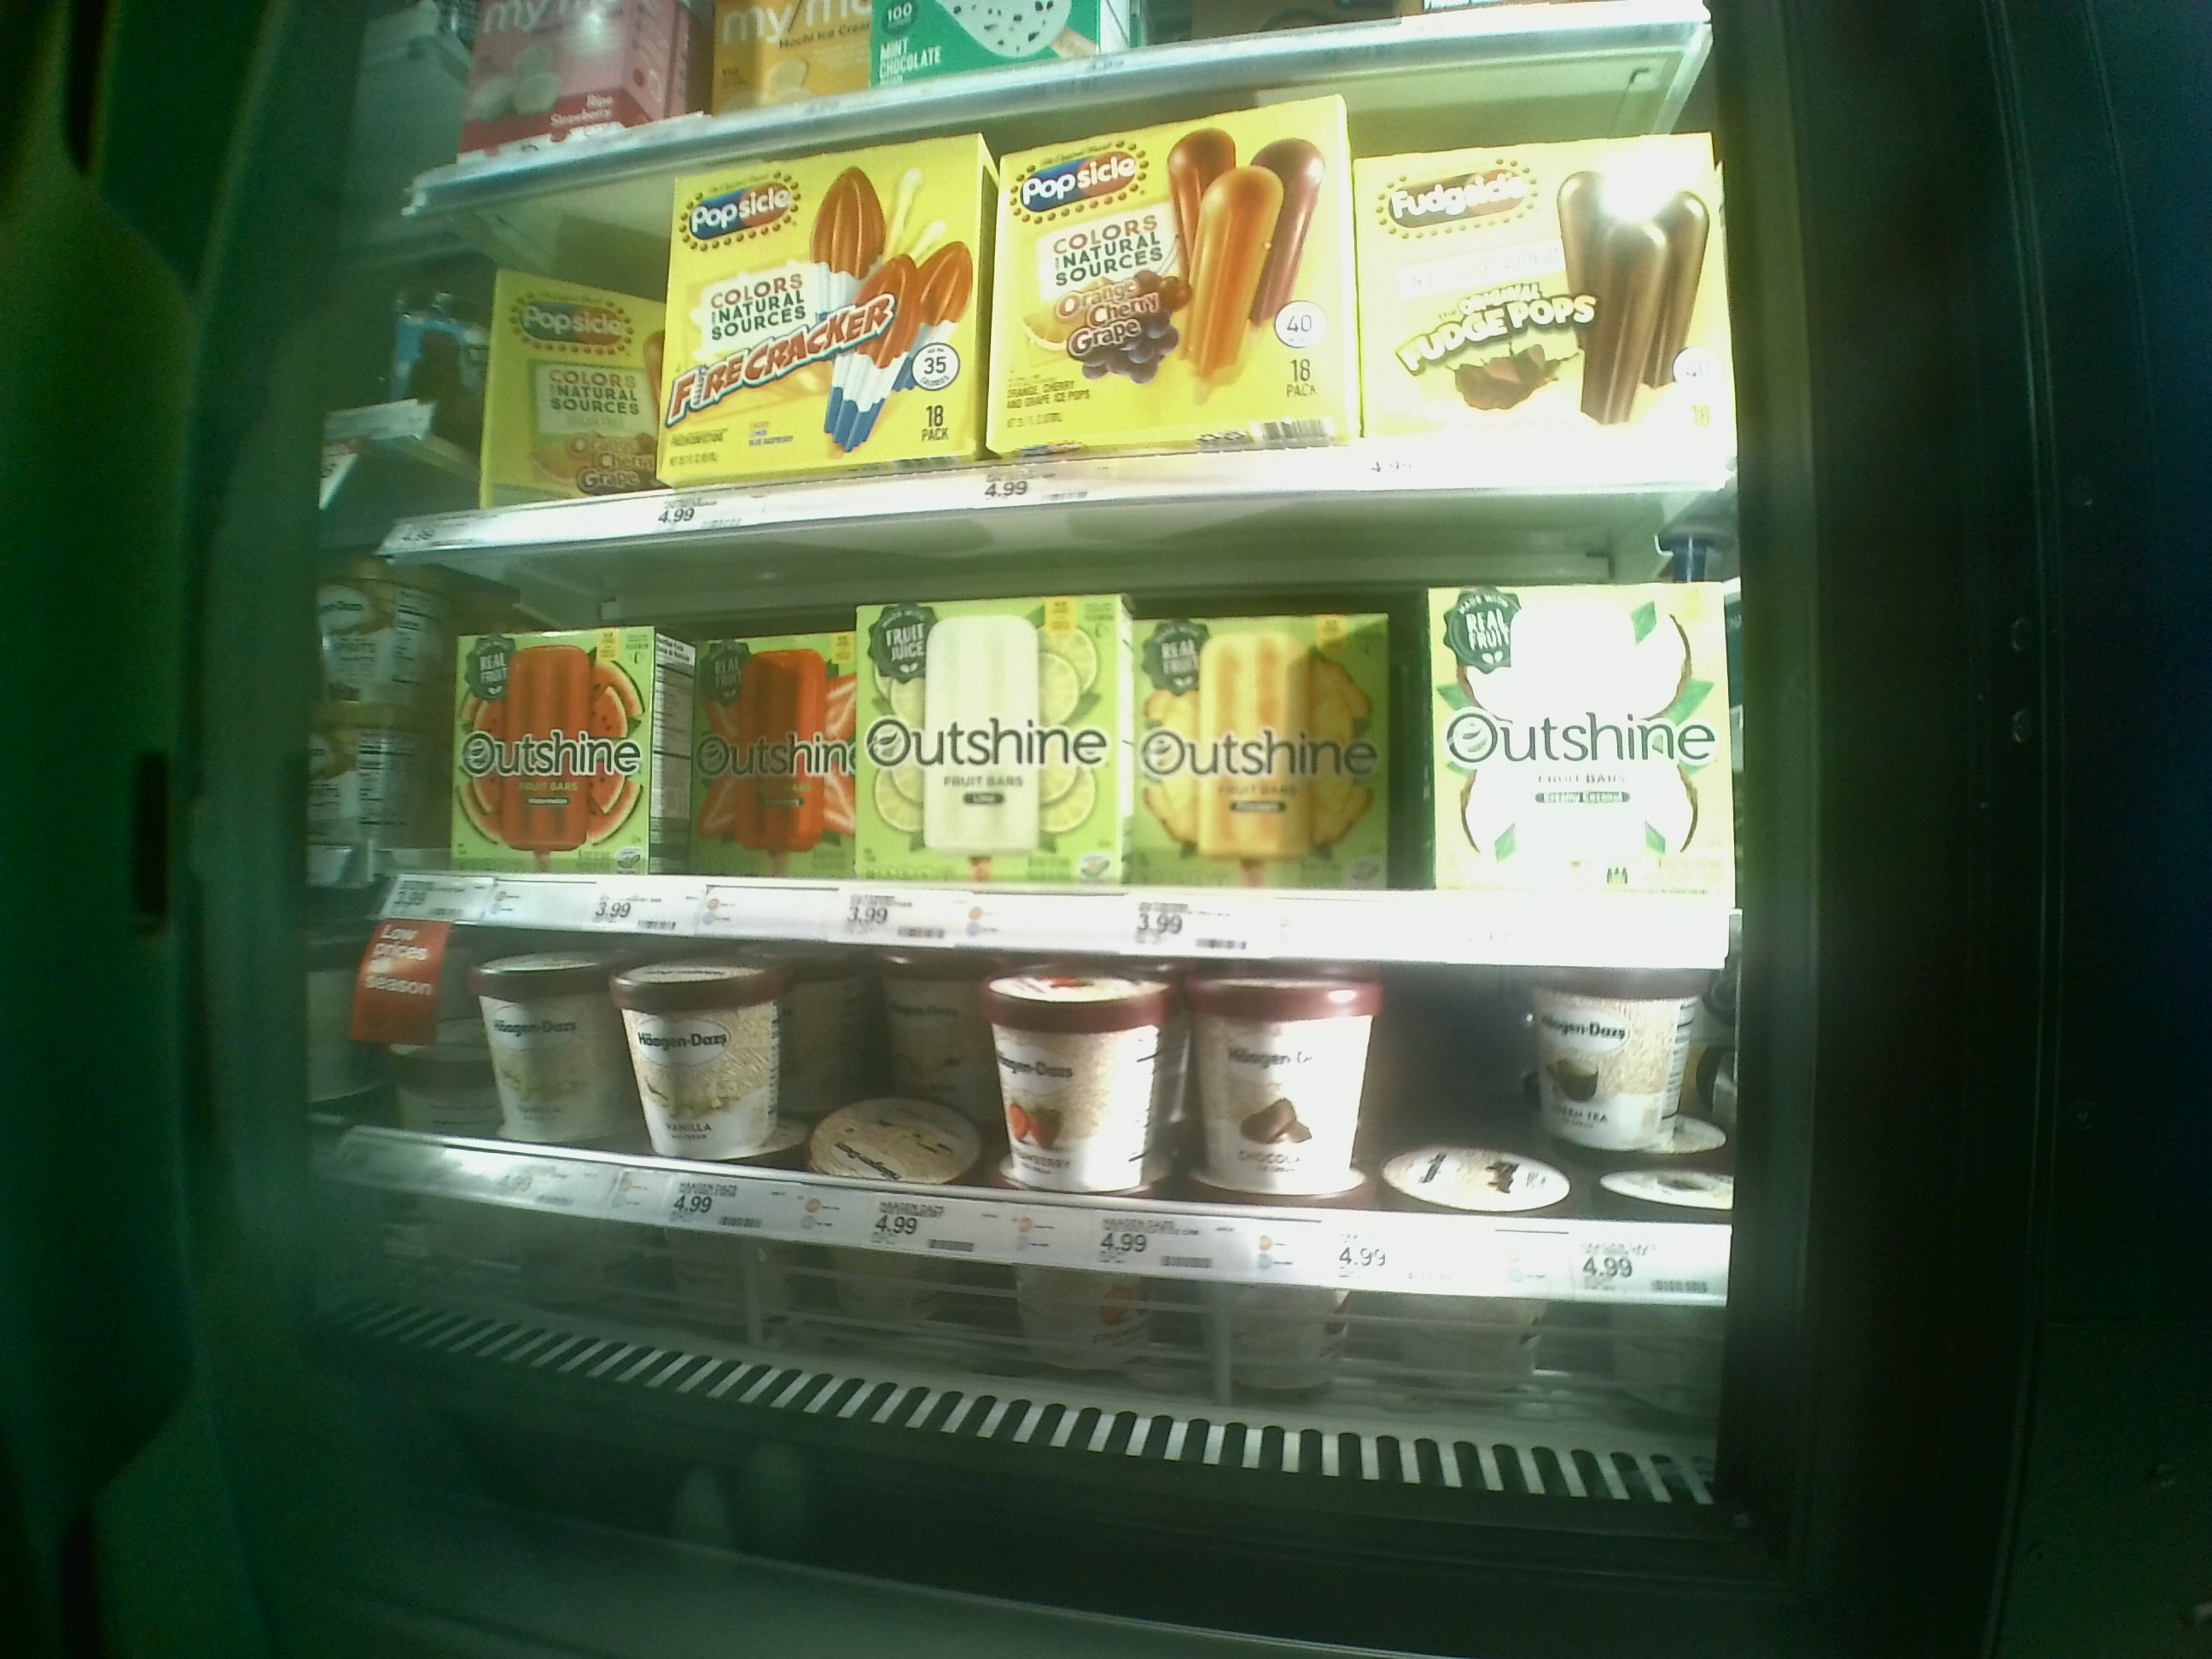shelf: (369, 924, 1714, 1406), (390, 535, 1716, 931)
